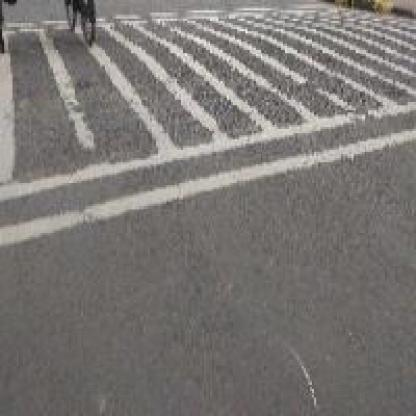Speed Bump: (112, 2, 414, 223)
